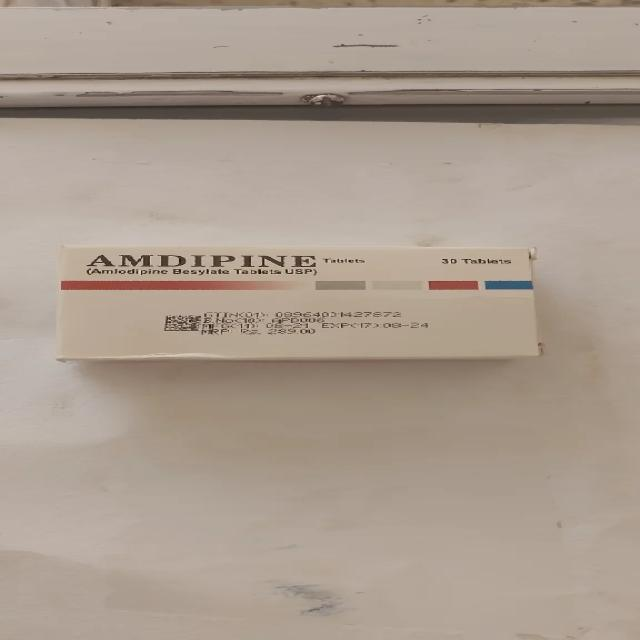drug-name: (88, 253, 316, 269)
